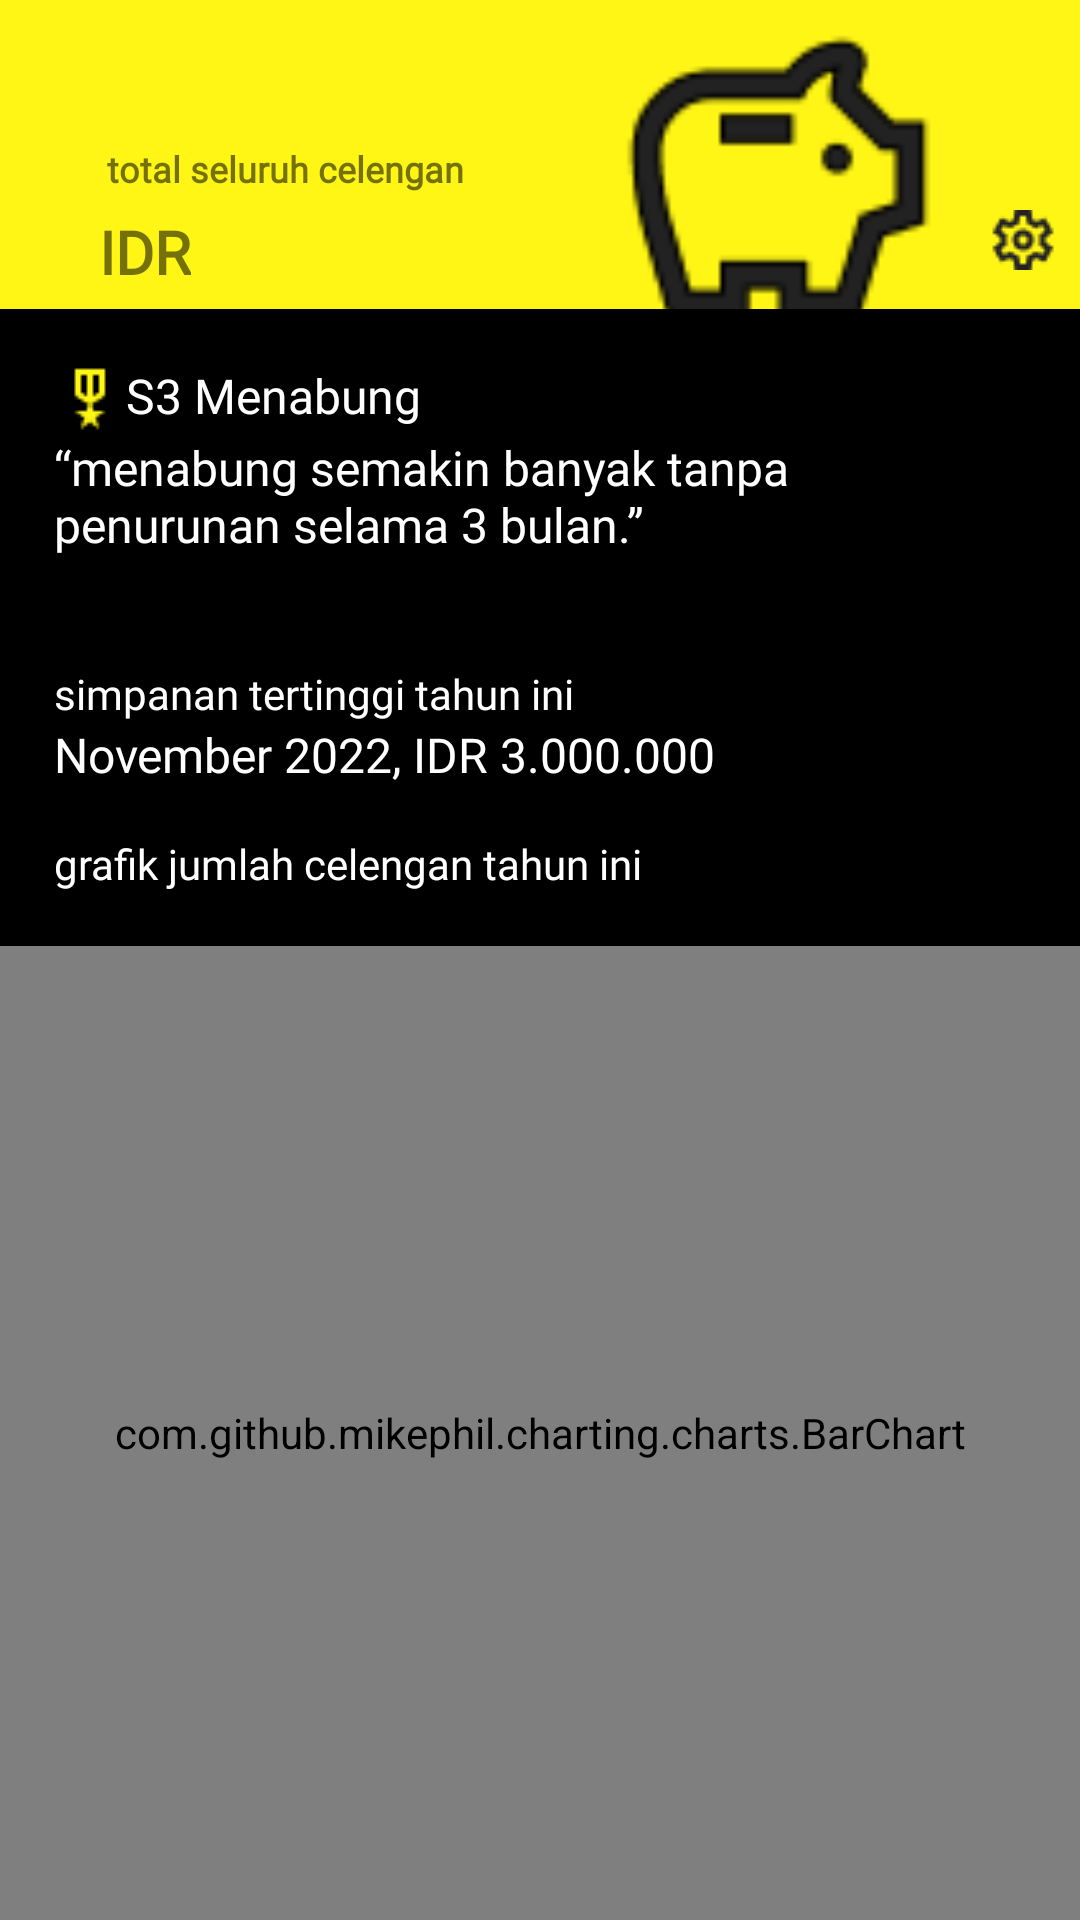

Icons on this 1080 × 1920 Android screen, each with the point to tap as (x,y):
settings: (1023,240)
